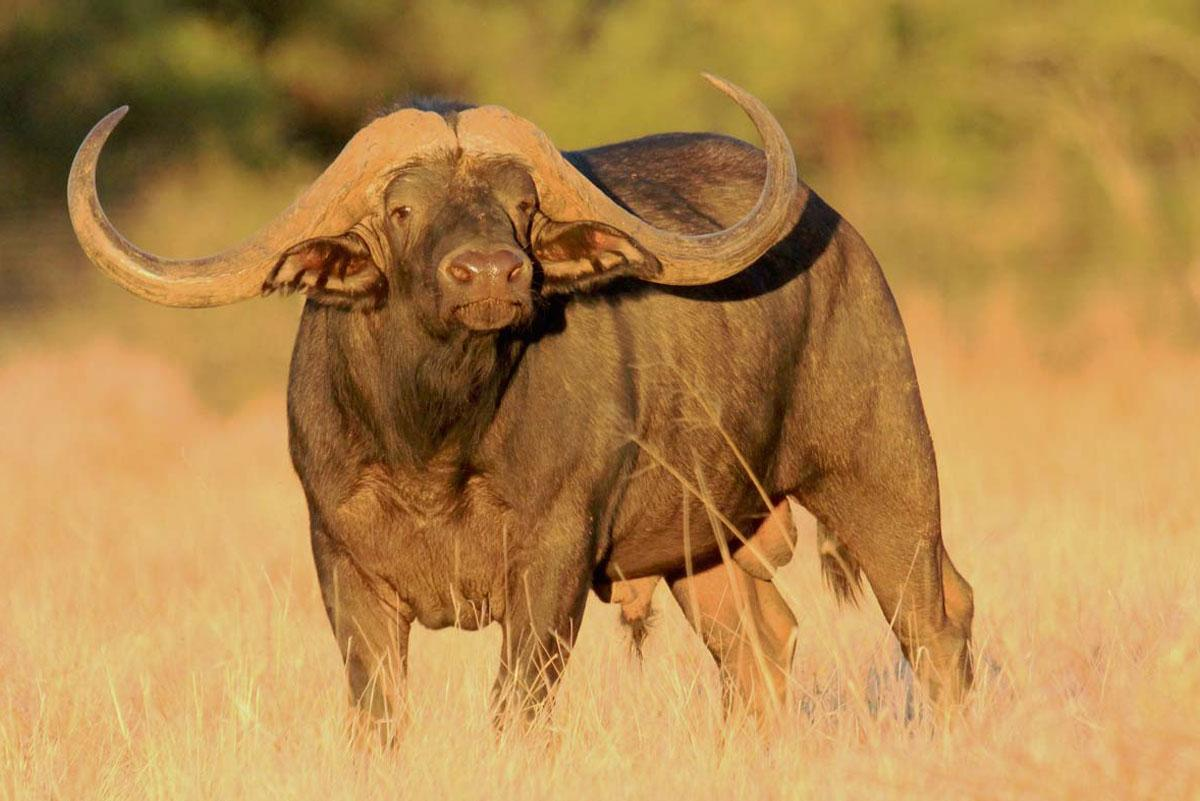Buffalo: (68, 65, 1043, 714)
